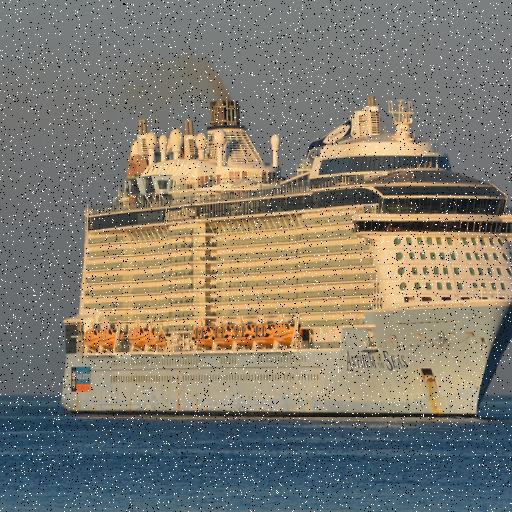cruises: (55, 95, 512, 435)
